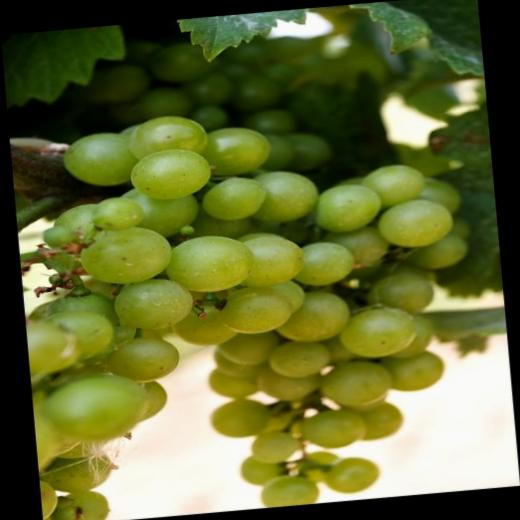Orange: (4, 16, 494, 520)
